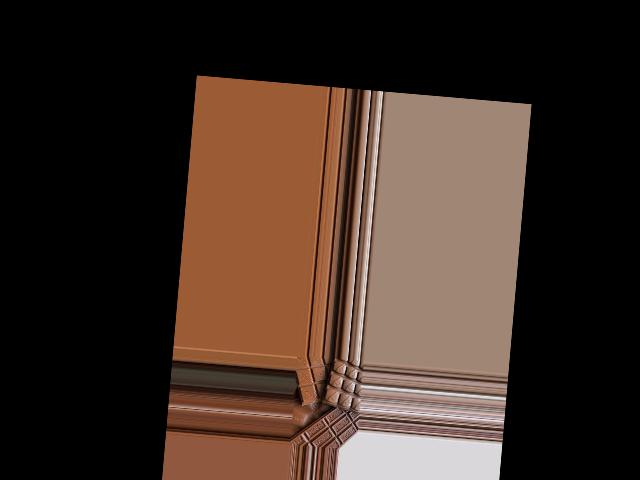chocolate: (296, 354, 340, 407)
